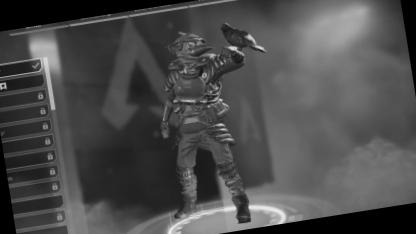Target: (154, 25, 250, 225)
